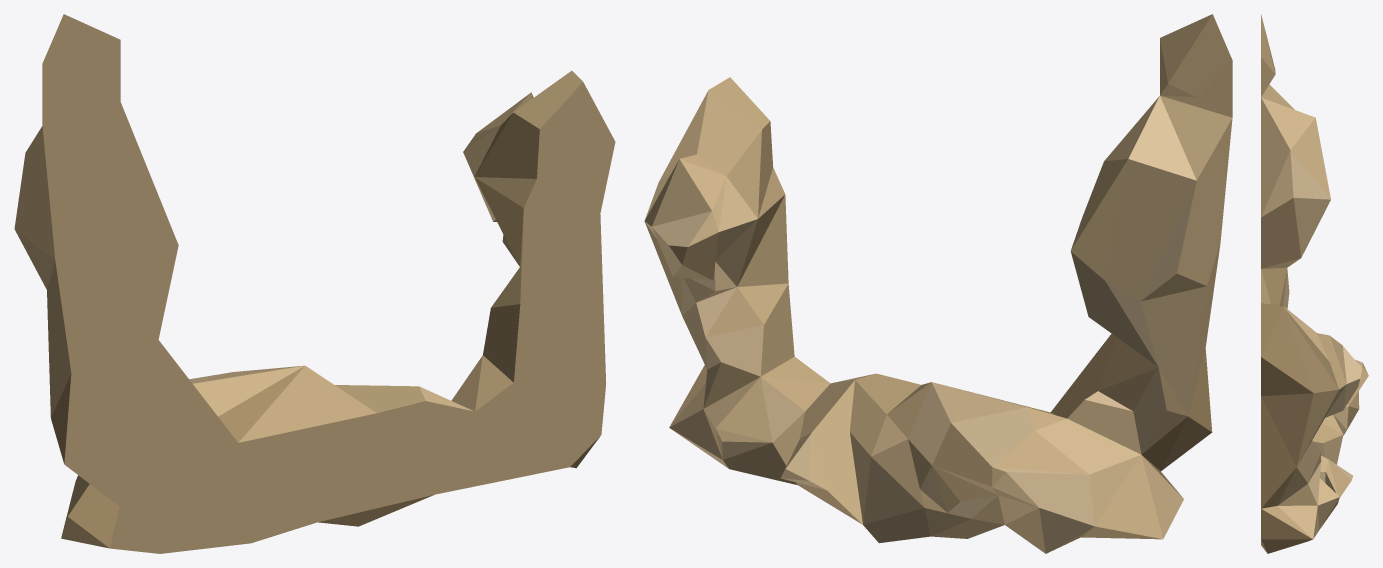
Rendered from desert_mountain_3.fbx.
The picture shows the model from 3 angles, left to right: view 1: azimuth 30°, elevation 25°; view 2: azimuth 150°, elevation 25°; view 3: azimuth 270°, elevation 25°; orthographic projection. The views are drawn at different scales.
Visible parts, largest first — view 1: desert_mountain_3; view 2: desert_mountain_3; view 3: desert_mountain_3.
Boxes of the visible parts, x1,y1,x2,y2 form: desert_mountain_3: (14, 14, 615, 553); desert_mountain_3: (644, 14, 1232, 553); desert_mountain_3: (1261, 14, 1368, 553).
Bounding box in the file's own units: 493 × 500 × 124.
